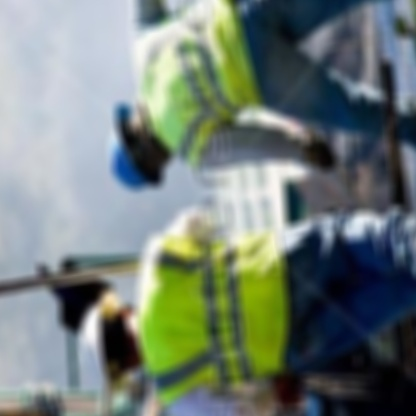blue: (99, 97, 162, 208)
vest: (125, 208, 301, 416), (117, 0, 265, 180)
white: (64, 280, 140, 410)
